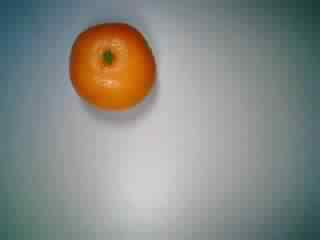orange: (62, 14, 157, 116)
